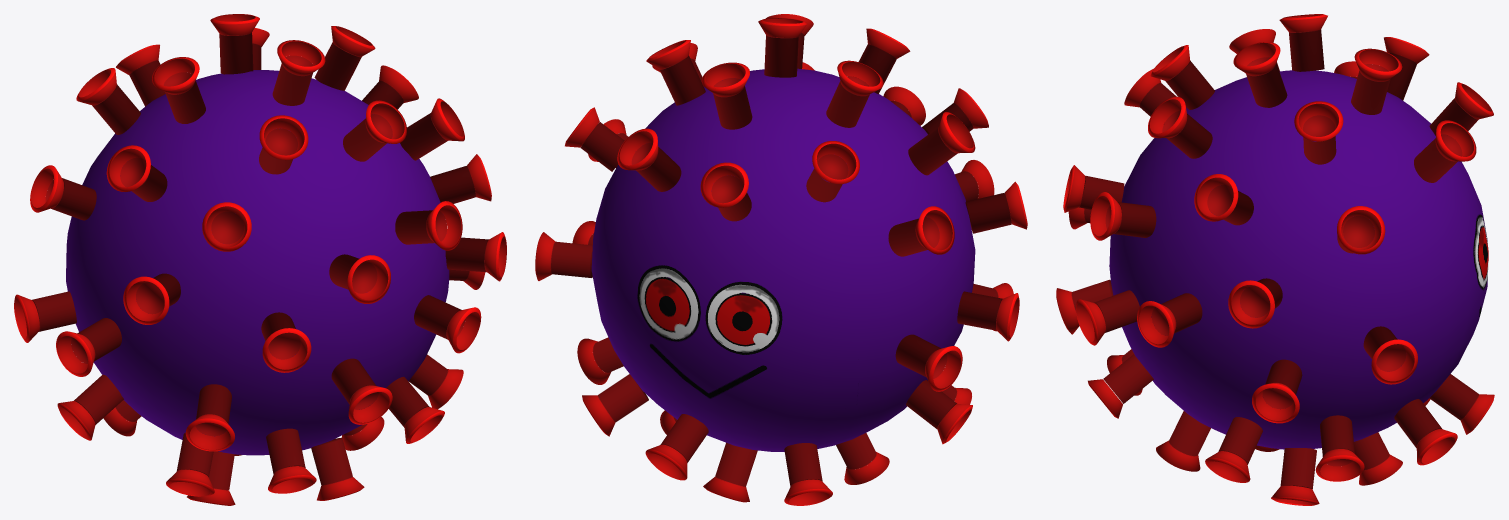
The model's file is 3rdEnemy.obj.
The picture shows the model from 3 angles, left to right: view 1: azimuth 30°, elevation 25°; view 2: azimuth 150°, elevation 25°; view 3: azimuth 270°, elevation 25°; orthographic projection.
Visible parts, largest first — view 1: 球; view 2: 球; view 3: 球.
Boxes of the visible parts, x1=… form: 球: x1=14, y1=14, x2=506, y2=505; 球: x1=535, y1=14, x2=1027, y2=505; 球: x1=1056, y1=14, x2=1494, y2=505.
Size of the model in its own units: 2.56 by 2.53 by 2.3.
Materials: 2 (2 with a texture image).
